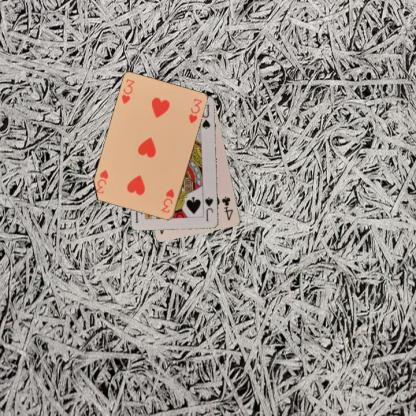3h: (159, 186, 176, 214), (119, 77, 136, 105)
4c: (219, 193, 234, 222)
Js: (203, 195, 214, 222)
